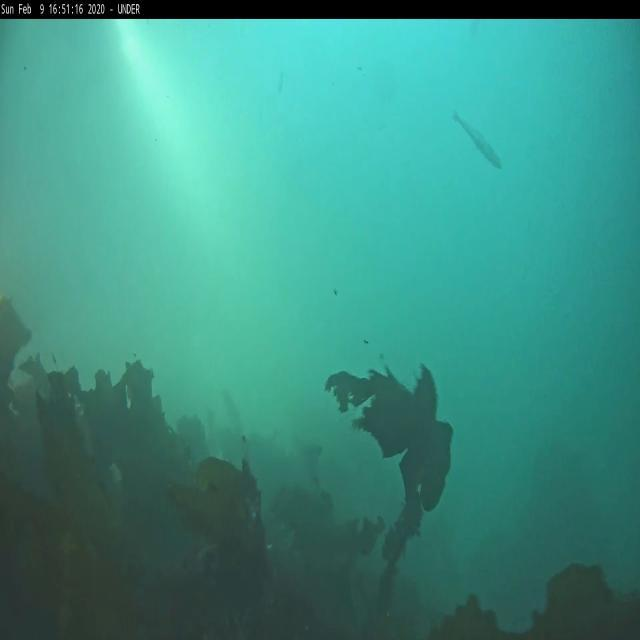fish: (452, 110, 502, 170)
